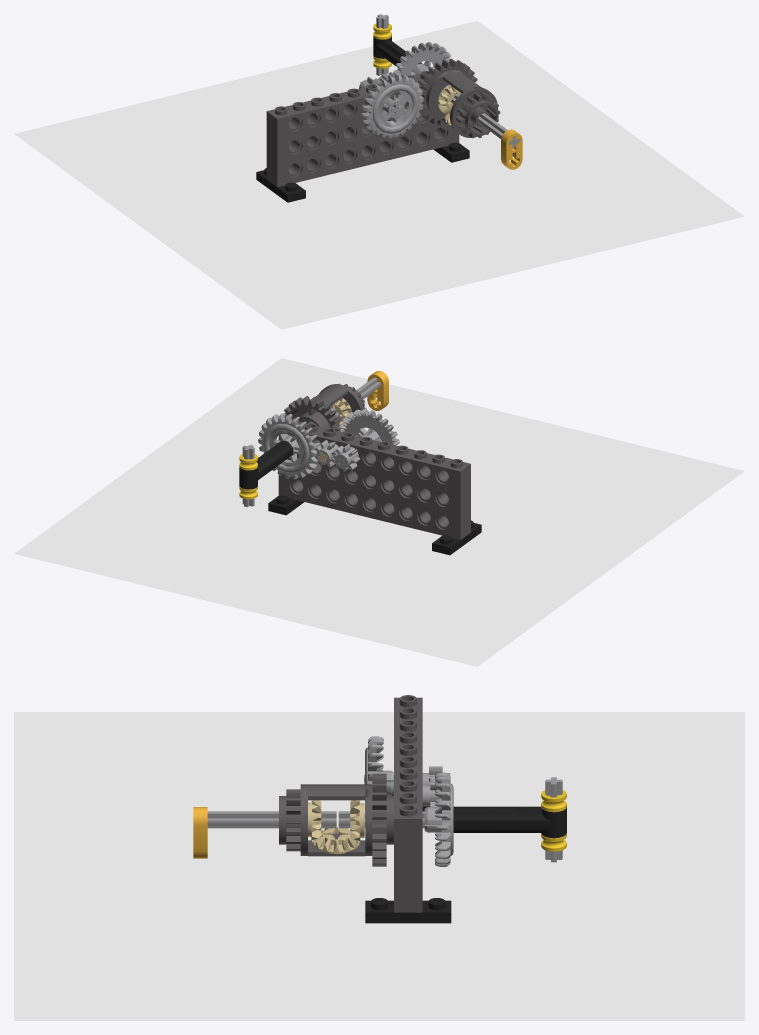
Rendered from animation_diff7_new.glb.
3 views of the same model, one above another, from view 1: azimuth 30°, elevation 25°; view 2: azimuth 150°, elevation 25°; view 3: azimuth 270°, elevation 25° (orthographic). The views are drawn at different scales.
Visible parts, largest first — view 1: LegoGroundPlane, 00009_2730.dat, diff, 00002_2730.dat, roue3, roue1, 00001_2730.dat, roue4, 00011_3623.dat; view 2: LegoGroundPlane, 00002_2730.dat, 00009_2730.dat, roue1, 00001_2730.dat, diff, roue3, roue4, 00011_3623.dat; view 3: LegoGroundPlane, roue1, diff, 00002_2730.dat, roue4, 00010_3623.dat, roue3, 00001_2730.dat, 00009_2730.dat, roueS.
Part boxes in pixels (left/top/right/bottom): LegoGroundPlane: left=14, top=21, right=744, bottom=329; 00009_2730.dat: left=266, top=123, right=459, bottom=187; diff: left=418, top=59, right=500, bottom=138; 00002_2730.dat: left=266, top=71, right=429, bottom=141; roue3: left=359, top=73, right=423, bottom=139; roue1: left=373, top=14, right=461, bottom=114; 00001_2730.dat: left=266, top=114, right=445, bottom=164; roue4: left=477, top=113, right=522, bottom=169; 00011_3623.dat: left=256, top=168, right=305, bottom=202; LegoGroundPlane: left=14, top=358, right=744, bottom=666; 00002_2730.dat: left=278, top=419, right=470, bottom=494; 00009_2730.dat: left=278, top=474, right=470, bottom=539; roue1: left=239, top=413, right=319, bottom=507; 00001_2730.dat: left=287, top=454, right=470, bottom=516; diff: left=284, top=383, right=366, bottom=431; roue3: left=333, top=409, right=399, bottom=471; roue4: left=330, top=371, right=388, bottom=424; 00011_3623.dat: left=432, top=520, right=481, bottom=555; LegoGroundPlane: left=14, top=712, right=744, bottom=1020; roue1: left=338, top=772, right=566, bottom=866; diff: left=279, top=773, right=393, bottom=866; 00002_2730.dat: left=394, top=695, right=422, bottom=850; roue4: left=193, top=800, right=336, bottom=858; 00010_3623.dat: left=365, top=898, right=451, bottom=923; roue3: left=364, top=736, right=450, bottom=810; 00001_2730.dat: left=394, top=850, right=422, bottom=881; 00009_2730.dat: left=394, top=881, right=422, bottom=912; roueS: left=313, top=826, right=359, bottom=854.
Bounding box in the file's own units: 0.2037 × 0.0413 × 0.2037.
